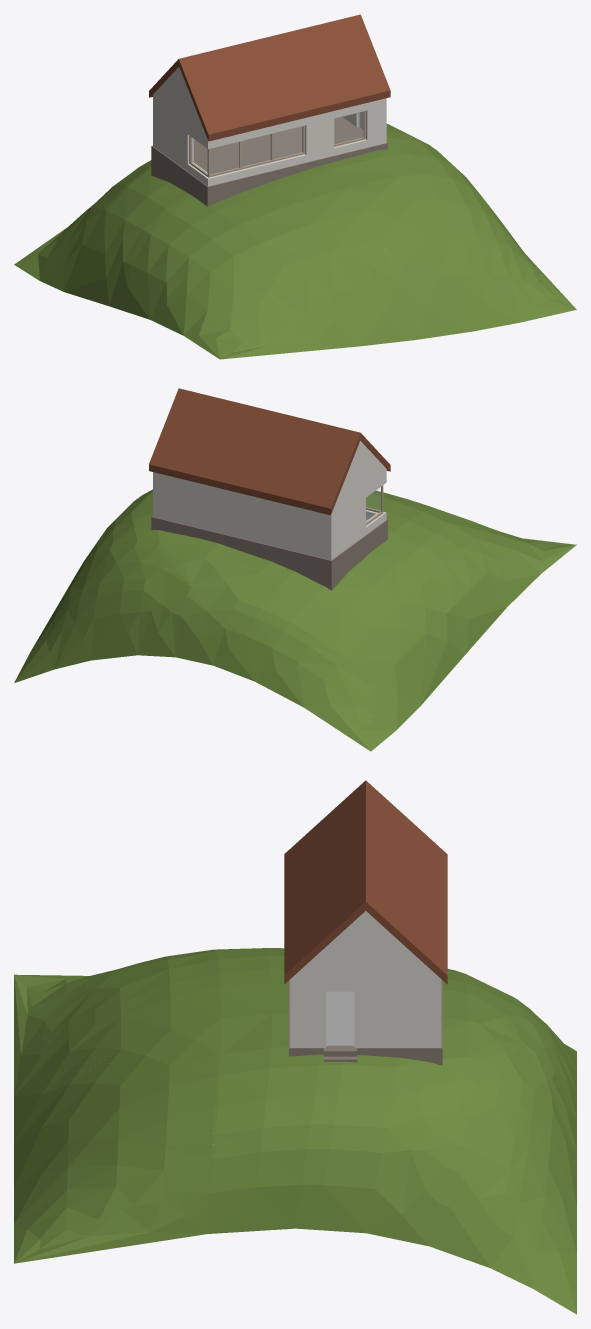
3 renders of one model, top to bottom at view 1: azimuth 30°, elevation 25°; view 2: azimuth 150°, elevation 25°; view 3: azimuth 270°, elevation 25°, orthographic. The views are drawn at different scales.
Parts seen in each view (by area): view 1: 3bqf5ZY_nDpfb1hfmOkxFk, 2KoBar2pfAWBou8q$ldGHy, 2W4bl$KK1Brv_UEOkAThqU, 3g46_woBL6sugXeY5_WP6n, 1hwEPyGUD1vwPpm508N9dQ, 23dVSDsxXCPhtqOSjMZ_H9; view 2: 3bqf5ZY_nDpfb1hfmOkxFk, 3lPsczHcDCwepFiJhZqz9q, 3xUPAVO39FGgNkCUQqf4JV, 2W4bl$KK1Brv_UEOkAThqU, 1hwEPyGUD1vwPpm508N9dQ; view 3: 3bqf5ZY_nDpfb1hfmOkxFk, 3hw7qrktPAl8j6w3qKhwKm, 2KoBar2pfAWBou8q$ldGHy, 3lPsczHcDCwepFiJhZqz9q, 2W4bl$KK1Brv_UEOkAThqU, 0Tif_$wI1FwAwq$OJt24I8, 3xUPAVO39FGgNkCUQqf4JV.
Boxes of the visible parts, x1,y1,x2,y2 form: 3bqf5ZY_nDpfb1hfmOkxFk: [14, 124, 576, 359]; 2KoBar2pfAWBou8q$ldGHy: [178, 14, 390, 141]; 2W4bl$KK1Brv_UEOkAThqU: [151, 117, 387, 206]; 3g46_woBL6sugXeY5_WP6n: [204, 98, 386, 186]; 1hwEPyGUD1vwPpm508N9dQ: [156, 67, 207, 183]; 23dVSDsxXCPhtqOSjMZ_H9: [274, 127, 302, 158]; 3bqf5ZY_nDpfb1hfmOkxFk: [14, 489, 576, 751]; 3lPsczHcDCwepFiJhZqz9q: [149, 388, 360, 515]; 3xUPAVO39FGgNkCUQqf4JV: [153, 472, 334, 560]; 2W4bl$KK1Brv_UEOkAThqU: [151, 516, 387, 590]; 1hwEPyGUD1vwPpm508N9dQ: [335, 441, 384, 557]; 3bqf5ZY_nDpfb1hfmOkxFk: [14, 948, 576, 1314]; 3hw7qrktPAl8j6w3qKhwKm: [295, 911, 436, 1047]; 2KoBar2pfAWBou8q$ldGHy: [284, 780, 365, 984]; 3lPsczHcDCwepFiJhZqz9q: [366, 780, 447, 984]; 2W4bl$KK1Brv_UEOkAThqU: [289, 979, 442, 1065]; 0Tif_$wI1FwAwq$OJt24I8: [326, 991, 354, 1045]; 3xUPAVO39FGgNkCUQqf4JV: [431, 971, 441, 1047].
Size of the model in its own units: 20 by 13.91 by 20.
